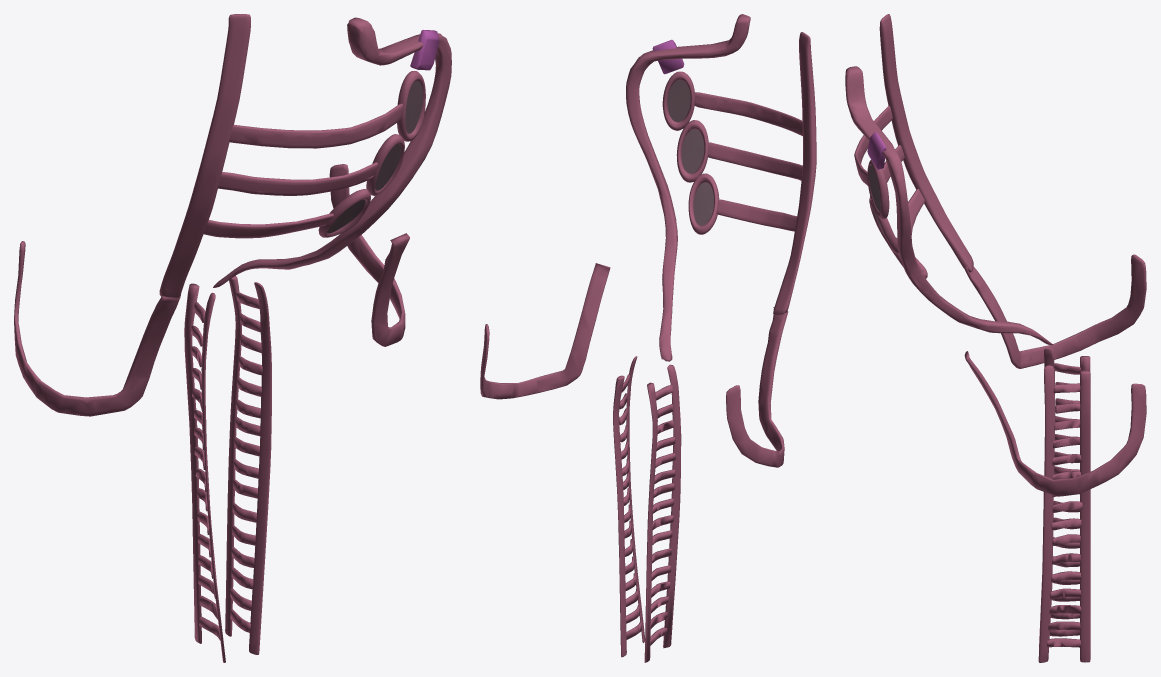
The model's file is details.obj.
3 renders of one model, left to right at view 1: azimuth 30°, elevation 25°; view 2: azimuth 150°, elevation 25°; view 3: azimuth 270°, elevation 25°, orthographic. The views are drawn at different scales.
Parts seen in each view (by area): view 1: vn_commander_uniform_details; view 2: vn_commander_uniform_details; view 3: vn_commander_uniform_details.
Part boxes in pixels (x1=…): vn_commander_uniform_details: x1=14, y1=14, x2=451, y2=662; vn_commander_uniform_details: x1=480, y1=14, x2=816, y2=662; vn_commander_uniform_details: x1=845, y1=14, x2=1146, y2=662.
Size of the model in its own units: 10.78 by 20.67 by 9.38.
